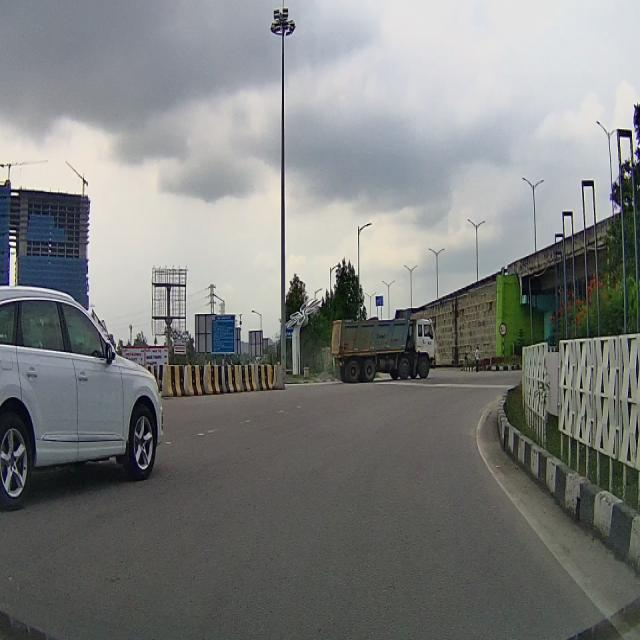car ahead at: (0, 286, 163, 513)
electric pole ahead at: (265, 0, 299, 397)
truck ahead at: (321, 297, 443, 391)
